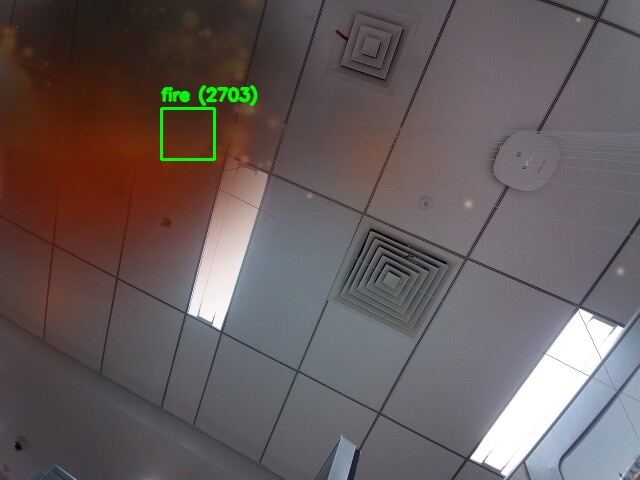fire: (161, 108, 214, 159)
